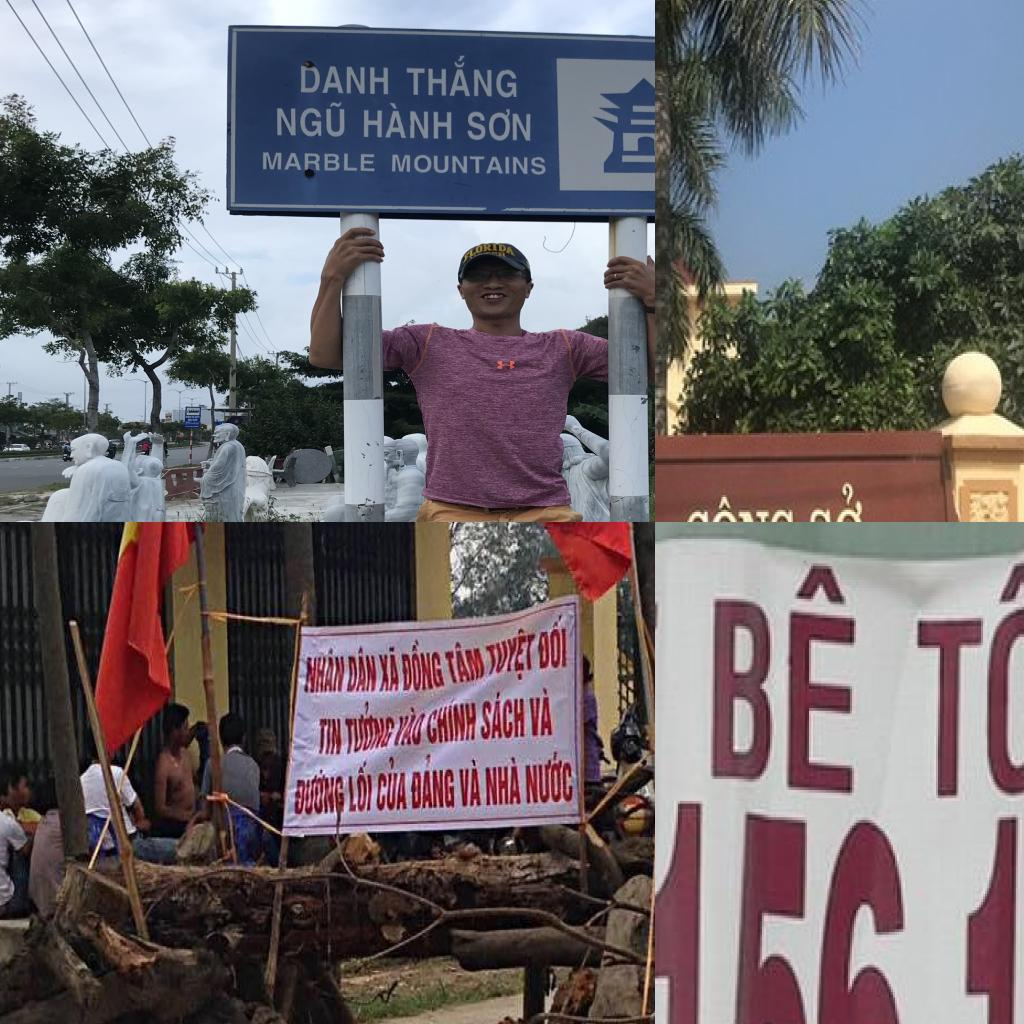text: (702, 538, 876, 792), (907, 555, 1024, 814), (406, 52, 520, 99), (389, 153, 547, 177), (360, 101, 454, 141), (680, 494, 802, 522), (524, 747, 578, 809), (484, 625, 539, 684), (345, 700, 398, 757), (298, 64, 392, 96), (276, 98, 348, 139), (411, 754, 457, 814), (293, 766, 347, 816), (426, 696, 480, 745), (261, 150, 376, 173), (805, 482, 868, 522), (479, 690, 527, 740), (465, 108, 534, 142), (404, 641, 448, 693), (482, 756, 524, 810), (442, 639, 487, 689), (302, 646, 348, 694), (539, 610, 572, 674), (376, 756, 410, 816), (526, 686, 558, 740), (347, 759, 375, 818), (345, 645, 378, 694), (391, 706, 428, 748), (462, 242, 519, 266), (316, 715, 345, 760), (378, 643, 401, 696), (460, 757, 482, 811)
